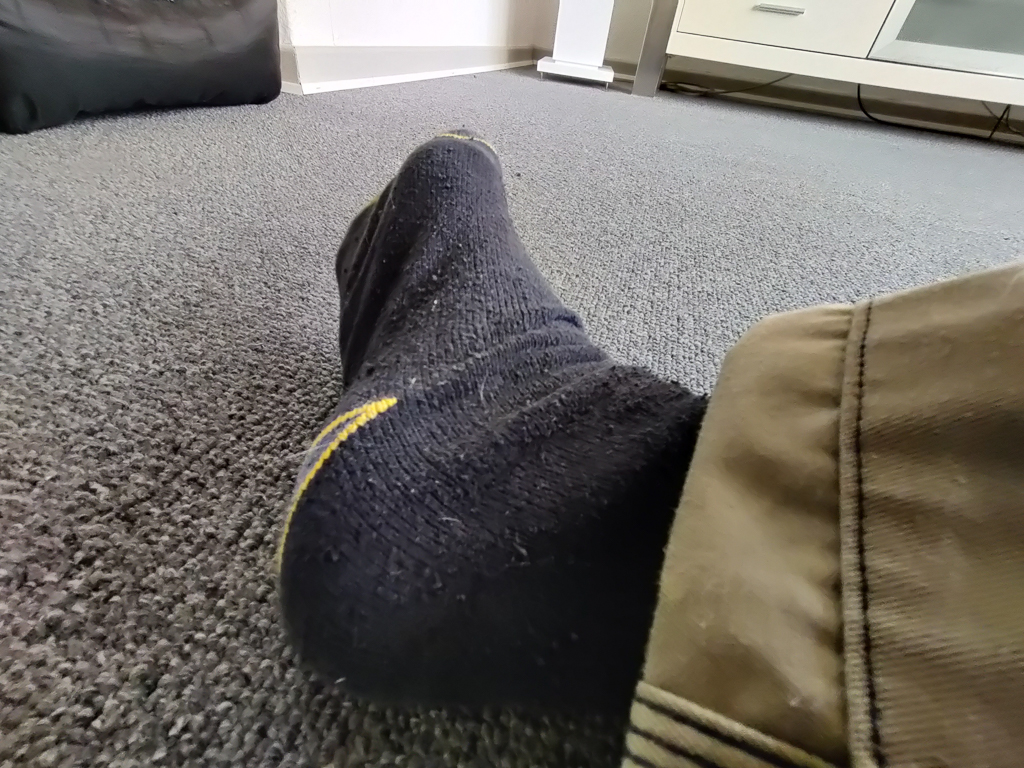Humanoid: (257, 121, 1024, 768)
